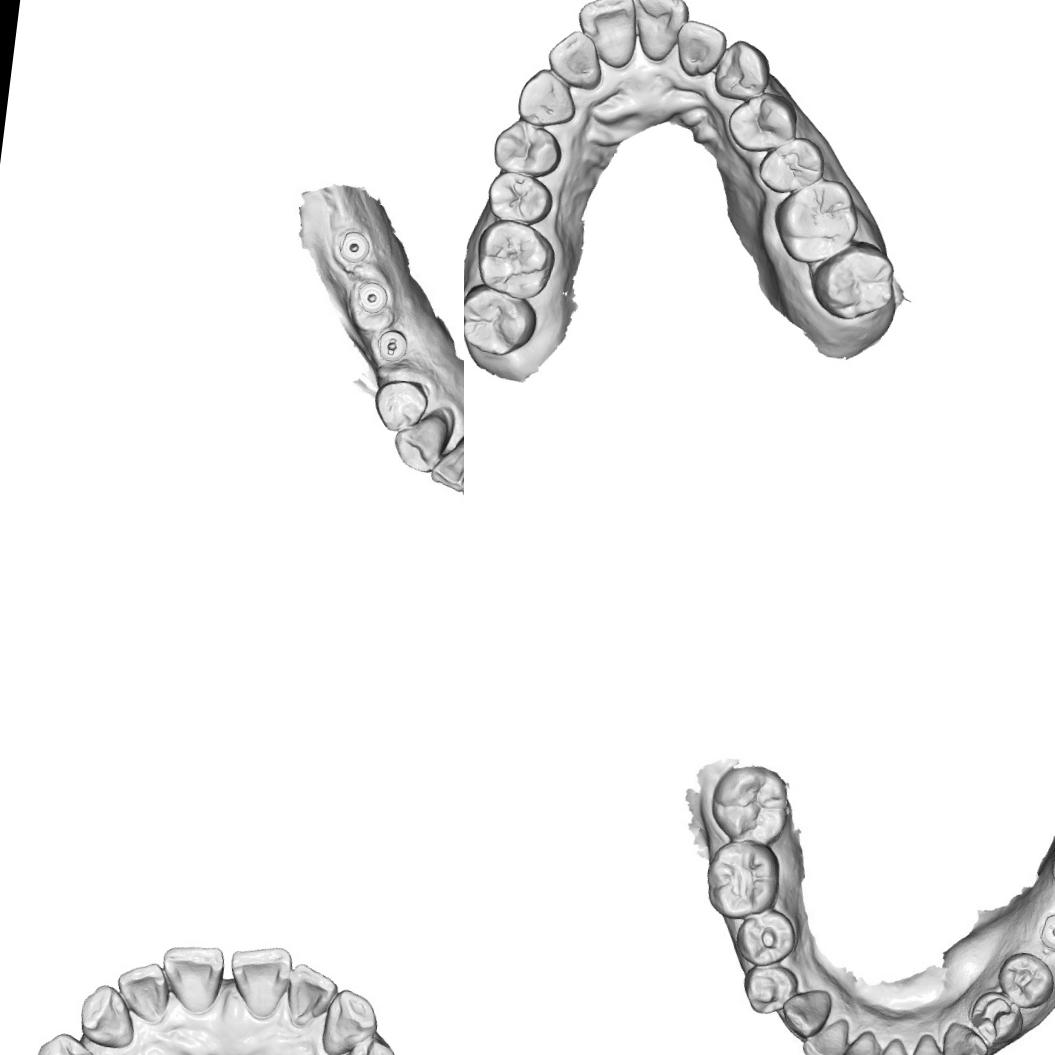canine: (75, 979, 141, 1053), (387, 408, 455, 478), (318, 984, 383, 1055), (512, 66, 580, 130), (710, 36, 774, 104), (777, 982, 832, 1040), (940, 1024, 985, 1055)
implant: (330, 224, 376, 270), (351, 280, 389, 318)
implant_minus: (375, 321, 413, 365), (1036, 906, 1055, 958)
incisor: (222, 940, 294, 1024), (154, 938, 228, 1018), (570, 0, 642, 71), (624, 0, 692, 67), (110, 956, 174, 1026), (280, 960, 342, 1032), (544, 27, 608, 92), (672, 18, 730, 81), (432, 430, 464, 491), (803, 1020, 850, 1055), (906, 1029, 954, 1055), (871, 1032, 915, 1055), (844, 1028, 881, 1055)
molar: (768, 172, 864, 270), (805, 235, 900, 326), (470, 215, 560, 304), (698, 836, 782, 922), (712, 765, 793, 846), (464, 280, 540, 360)
premolar: (724, 88, 801, 158), (755, 132, 828, 199), (490, 116, 565, 180), (483, 168, 556, 229), (730, 904, 800, 967), (369, 375, 431, 436), (740, 958, 801, 1018), (999, 952, 1052, 1012), (972, 990, 1024, 1042), (29, 1027, 116, 1055), (328, 1030, 406, 1055)
